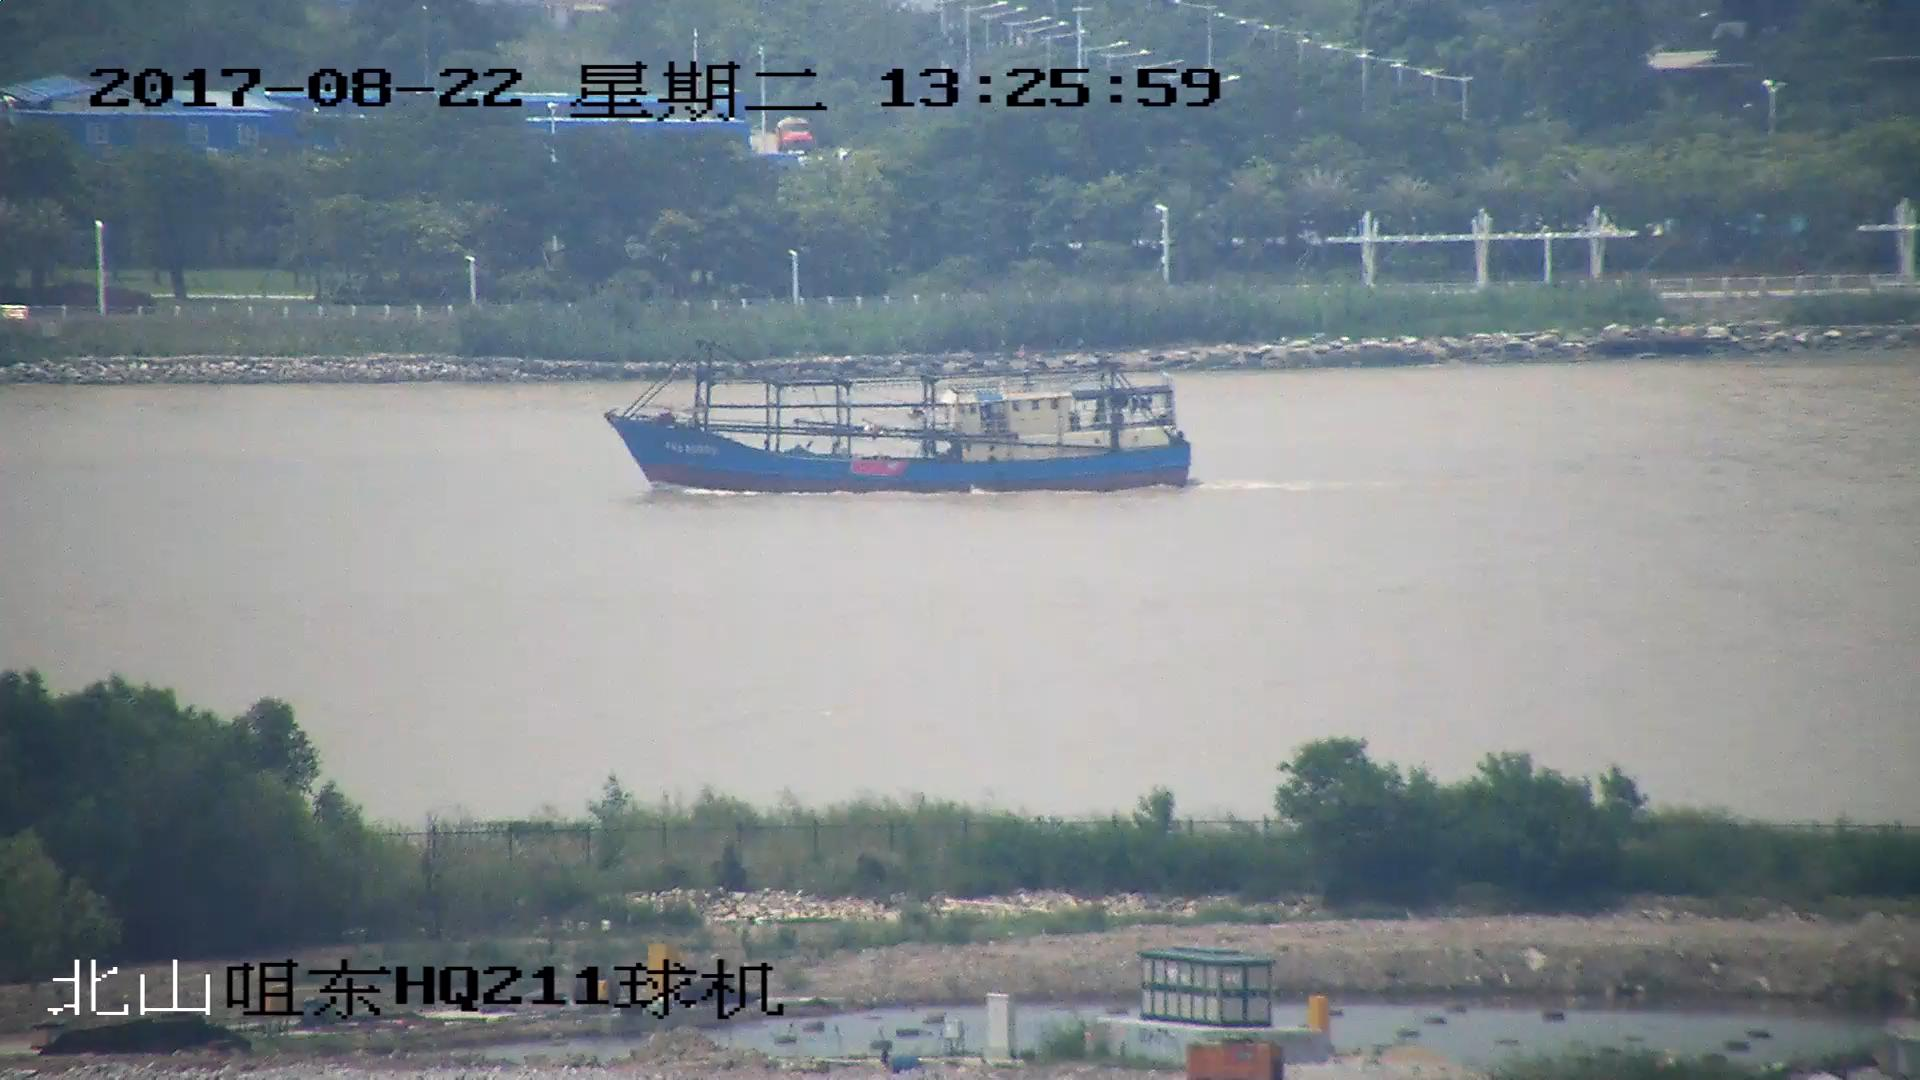fishing boat: (606, 341, 1187, 493)
